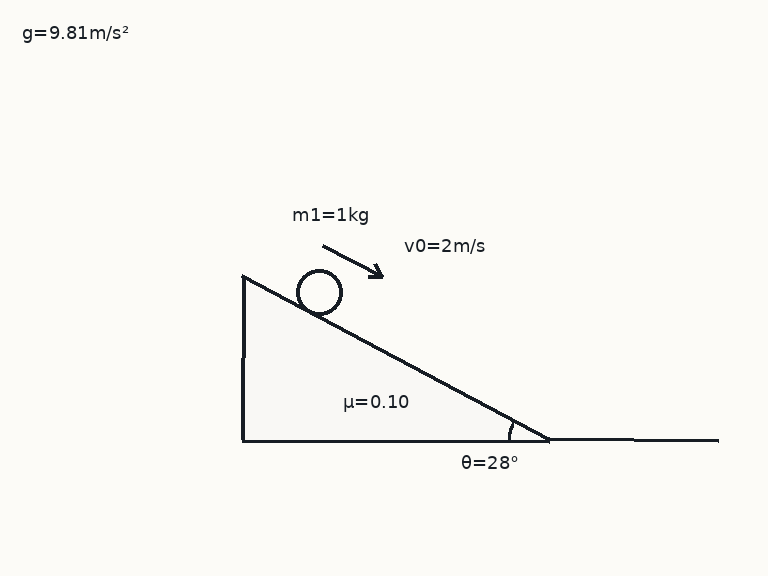ball: (294, 267, 344, 317)
ramp: (241, 275, 551, 442)
